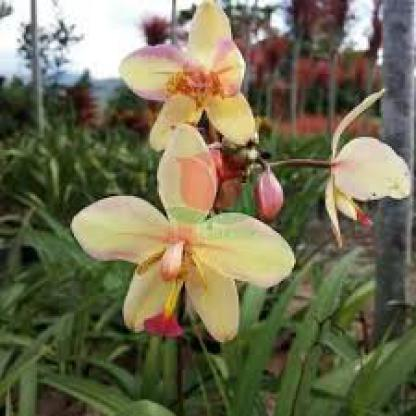ANGGREK: (84, 12, 412, 334)
